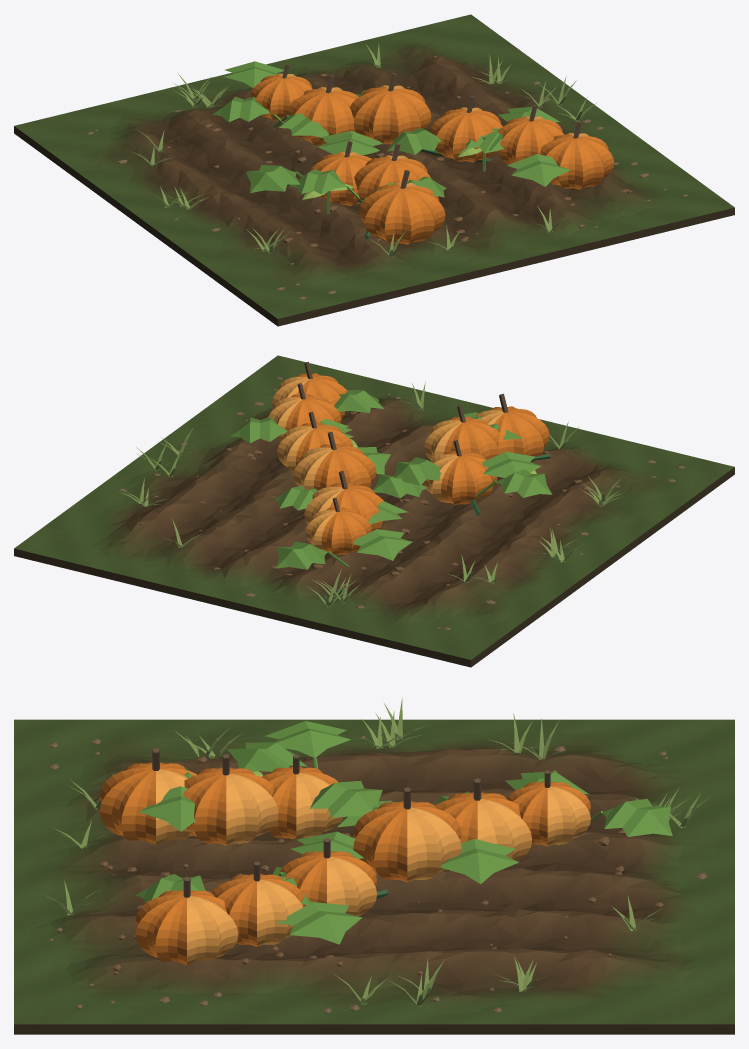
Rendered from pumpkin-patch.glb.
The picture shows the model from 3 angles, top to bottom: view 1: azimuth 30°, elevation 25°; view 2: azimuth 150°, elevation 25°; view 3: azimuth 270°, elevation 25°; orthographic projection. The views are drawn at different scales.
Parts seen in each view (by area): view 1: Static_mesh, Pumpkin_mesh, Pumpkin.006_mesh, Pumpkin.003_mesh, Pumpkin.005_mesh, Pumpkin.007_mesh, Pumpkin.004_mesh, Pumpkin.001_mesh, Pumpkin.008_mesh, Pumpkin.002_mesh, LobedLeaf.006_mesh, LobedLeaf.004_mesh (+6 smaller); view 2: Static_mesh, Pumpkin.006_mesh, Pumpkin.002_mesh, Pumpkin.001_mesh, Pumpkin.008_mesh, Pumpkin_mesh, Pumpkin.007_mesh, Pumpkin.005_mesh, Pumpkin.004_mesh, Pumpkin.003_mesh, LobedLeaf.012_mesh, LobedLeaf.014_mesh (+7 smaller); view 3: Static_mesh, Pumpkin.006_mesh, Pumpkin.003_mesh, Pumpkin.001_mesh, Pumpkin_mesh, Pumpkin.004_mesh, Pumpkin.005_mesh, Pumpkin.008_mesh, Pumpkin.007_mesh, Pumpkin.002_mesh, LobedLeaf.007_mesh, LobedLeaf.014_mesh (+8 smaller).
Boxes of the visible parts, x1,y1,x2,y2 form: Static_mesh: [14, 14, 734, 326]; Pumpkin_mesh: [359, 170, 445, 244]; Pumpkin.006_mesh: [349, 73, 431, 144]; Pumpkin.003_mesh: [540, 121, 614, 189]; Pumpkin.005_mesh: [430, 96, 502, 162]; Pumpkin.007_mesh: [285, 74, 358, 145]; Pumpkin.004_mesh: [497, 105, 564, 164]; Pumpkin.001_mesh: [354, 143, 431, 200]; Pumpkin.008_mesh: [250, 64, 312, 120]; Pumpkin.002_mesh: [310, 141, 371, 205]; LobedLeaf.006_mesh: [507, 154, 570, 186]; LobedLeaf.004_mesh: [246, 165, 302, 192]; Static_mesh: [14, 355, 734, 667]; Pumpkin.006_mesh: [293, 431, 376, 490]; Pumpkin.002_mesh: [423, 440, 497, 505]; Pumpkin.001_mesh: [424, 405, 499, 460]; Pumpkin.008_mesh: [305, 497, 371, 554]; Pumpkin_mesh: [476, 393, 549, 456]; Pumpkin.007_mesh: [304, 471, 384, 531]; Pumpkin.005_mesh: [277, 411, 353, 473]; Pumpkin.004_mesh: [268, 383, 341, 441]; Pumpkin.003_mesh: [272, 362, 347, 419]; LobedLeaf.012_mesh: [353, 529, 412, 560]; LobedLeaf.014_mesh: [275, 541, 349, 569]; Static_mesh: [14, 719, 734, 1034]; Pumpkin.006_mesh: [353, 787, 461, 882]; Pumpkin.003_mesh: [135, 876, 238, 965]; Pumpkin.001_mesh: [182, 754, 278, 845]; Pumpkin_mesh: [99, 748, 196, 844]; Pumpkin.004_mesh: [212, 861, 305, 946]; Pumpkin.005_mesh: [280, 838, 376, 916]; Pumpkin.008_mesh: [507, 770, 590, 846]; Pumpkin.007_mesh: [434, 778, 532, 869]; Pumpkin.002_mesh: [261, 754, 343, 839]; LobedLeaf.007_mesh: [276, 902, 362, 944]; LobedLeaf.014_mesh: [590, 798, 672, 836].
Bounding box in the file's own units: 3.5 × 0.6164 × 3.5.
